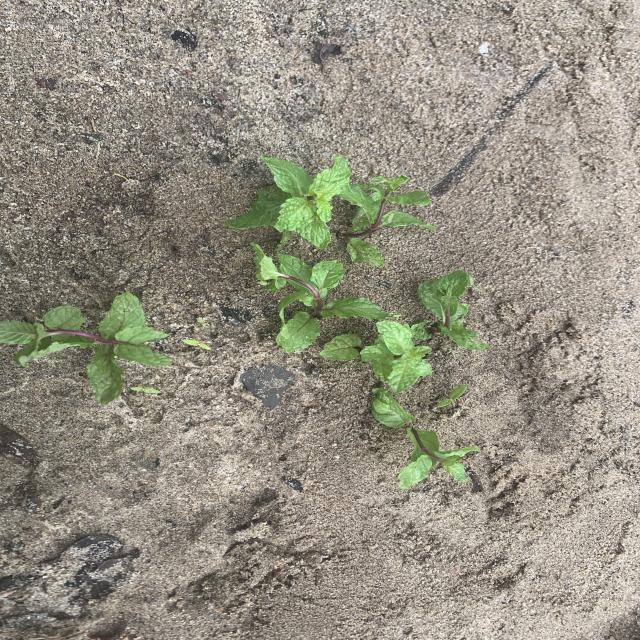crop: (0, 292, 172, 404), (253, 244, 390, 352), (224, 156, 350, 249), (372, 388, 479, 488), (340, 176, 436, 266), (320, 319, 432, 393), (410, 270, 489, 350)
weed: (435, 385, 467, 411), (130, 384, 174, 397), (182, 338, 211, 351), (197, 317, 209, 329)
